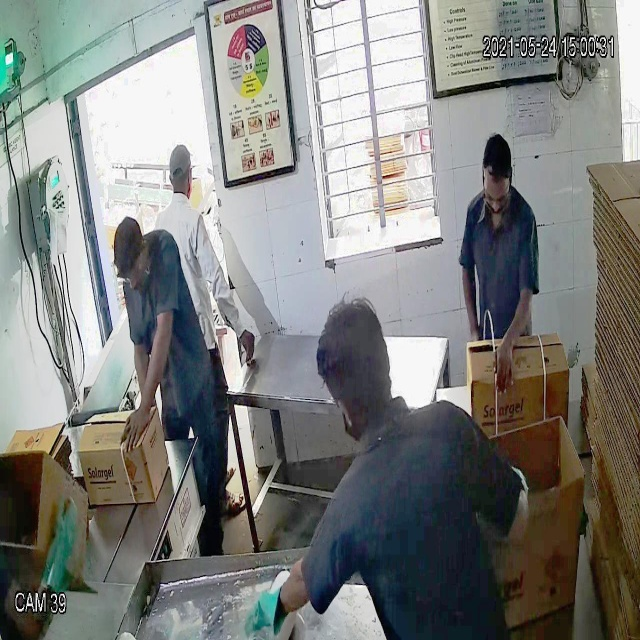Gafas: (478, 172, 513, 213)
